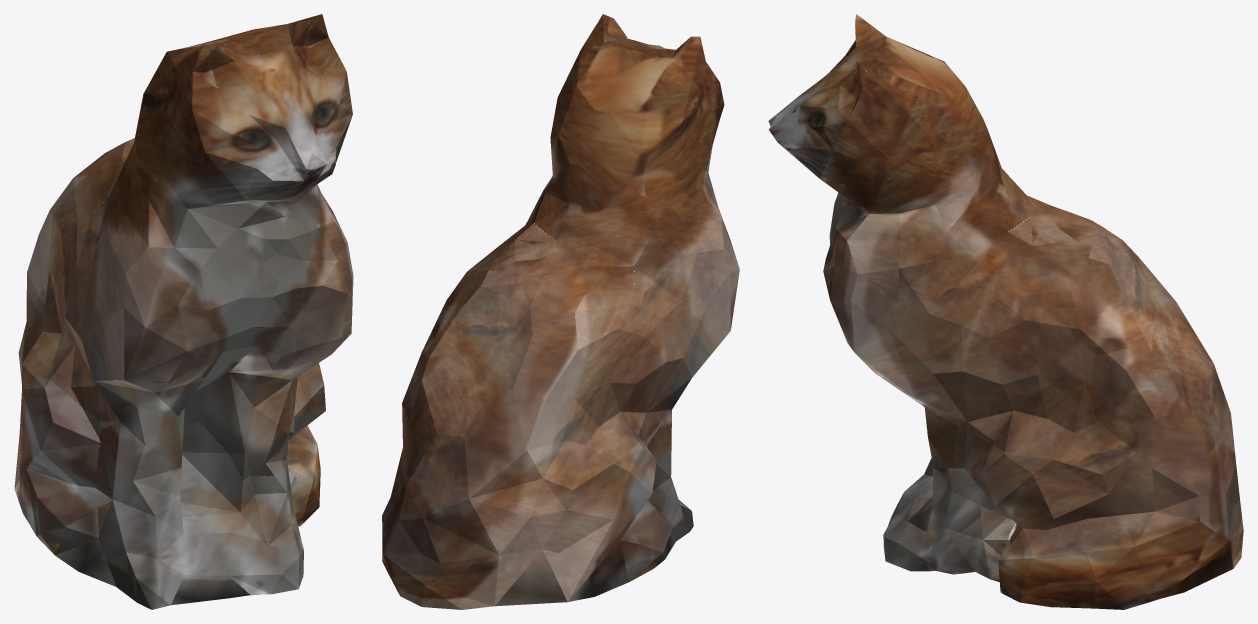
The model's file is cleaned_cat.glb.
3 views of the same model, side by side, from view 1: azimuth 30°, elevation 25°; view 2: azimuth 150°, elevation 25°; view 3: azimuth 270°, elevation 25° (orthographic). The views are drawn at different scales.
Visible parts, largest first — view 1: texturedMesh; view 2: texturedMesh; view 3: texturedMesh.
Part boxes in pixels (x1=…): texturedMesh: x1=14, y1=14, x2=353, y2=609; texturedMesh: x1=382, y1=14, x2=739, y2=609; texturedMesh: x1=768, y1=14, x2=1243, y2=609.
Size of the model in its own units: 0.4327 by 0.8257 by 0.7025.
1 material, 1 textured.
